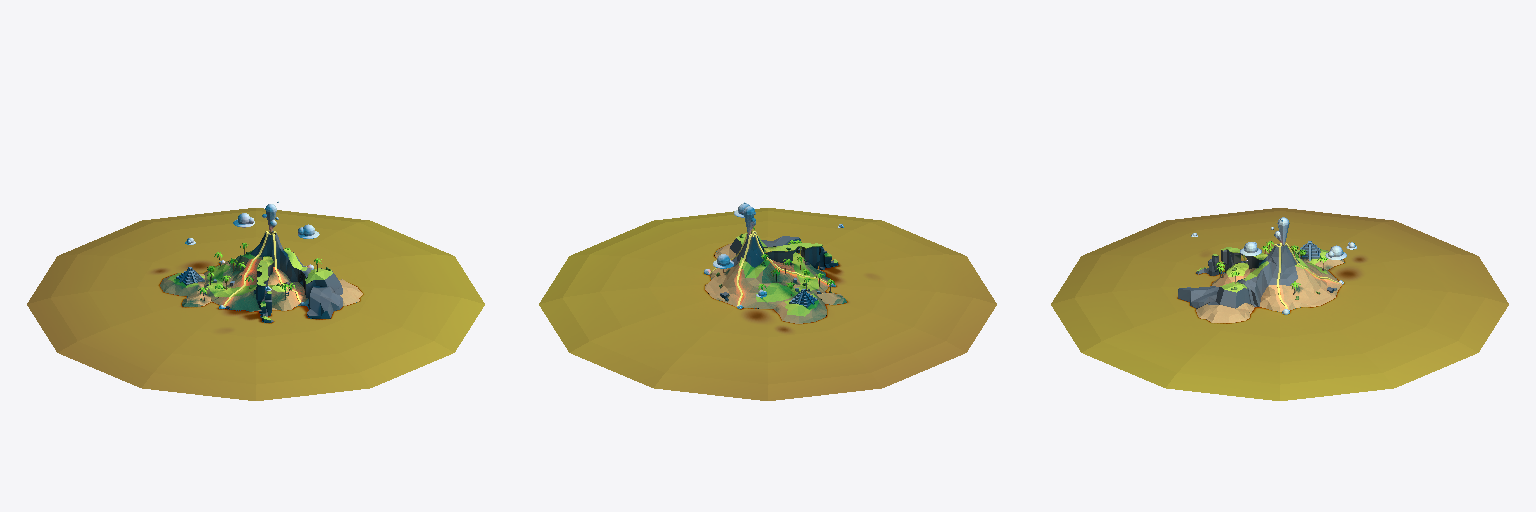
3 views of the same model, side by side, from view 1: azimuth 30°, elevation 25°; view 2: azimuth 150°, elevation 25°; view 3: azimuth 270°, elevation 25° (orthographic).
Parts seen in each view (by area): view 1: Ocean_Ocean_0, Volacano_Sand_Volacano_Sand_0, Volcano_Base_Volcano_Base_0, Volcano_Grass_Volcano_Grass_0, Clouds_Clouds_0; view 2: Ocean_Ocean_0, Volacano_Sand_Volacano_Sand_0, Volcano_Base_Volcano_Base_0, Volcano_Grass_Volcano_Grass_0, Clouds_Clouds_0; view 3: Ocean_Ocean_0, Volcano_Base_Volcano_Base_0, Volacano_Sand_Volacano_Sand_0, Clouds_Clouds_0, Volcano_Grass_Volcano_Grass_0.
Boxes of the visible parts, <box> form: Ocean_Ocean_0: <box>27,208,484,400</box>; Volacano_Sand_Volacano_Sand_0: <box>160,255,362,311</box>; Volcano_Base_Volcano_Base_0: <box>207,231,342,322</box>; Volcano_Grass_Volcano_Grass_0: <box>168,249,332,296</box>; Clouds_Clouds_0: <box>185,201,319,290</box>; Ocean_Ocean_0: <box>539,208,996,400</box>; Volacano_Sand_Volacano_Sand_0: <box>705,243,846,323</box>; Volcano_Base_Volcano_Base_0: <box>720,232,838,300</box>; Volcano_Grass_Volcano_Grass_0: <box>736,233,818,316</box>; Clouds_Clouds_0: <box>713,202,843,297</box>; Ocean_Ocean_0: <box>1051,208,1508,400</box>; Volcano_Base_Volcano_Base_0: <box>1178,244,1336,308</box>; Volacano_Sand_Volacano_Sand_0: <box>1196,250,1343,322</box>; Clouds_Clouds_0: <box>1191,217,1356,259</box>; Volcano_Grass_Volcano_Grass_0: <box>1220,249,1328,292</box>.
Size of the model in its own units: 47509 by 11089 by 47509.
15 materials, 15 textured.